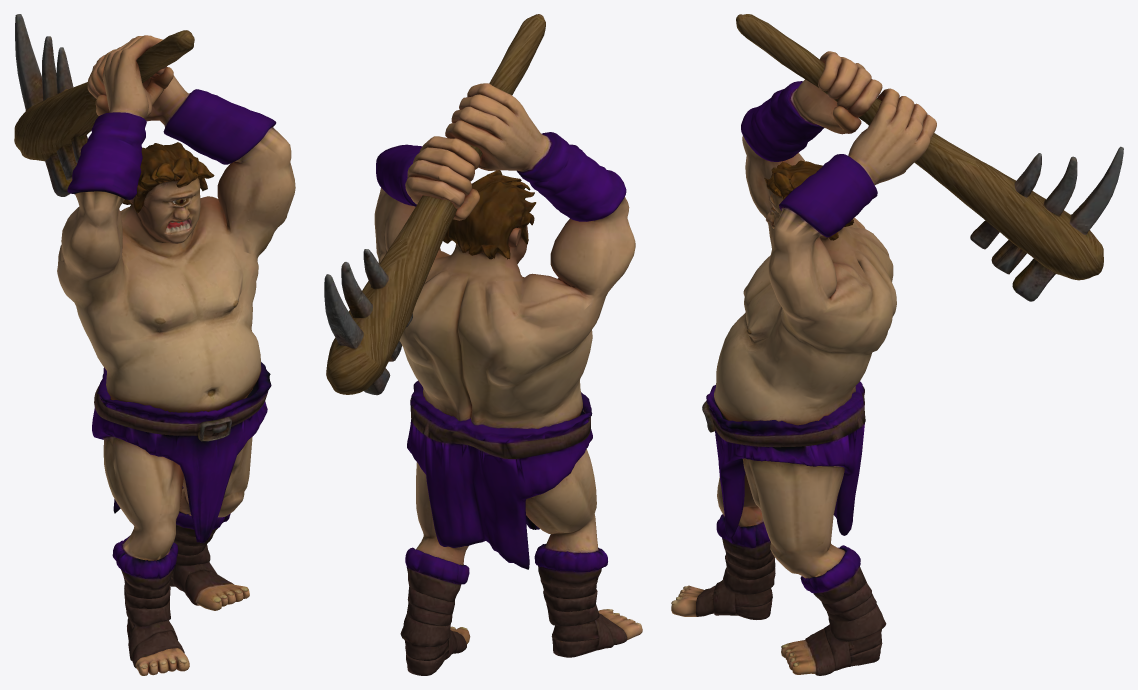
The model's file is MZ4250 - Cyclops.glb.
3 views of the same model, side by side, from view 1: azimuth 30°, elevation 25°; view 2: azimuth 150°, elevation 25°; view 3: azimuth 270°, elevation 25° (orthographic). The views are drawn at different scales.
Visible parts, largest first — view 1: Cyclops Updated.001; view 2: Cyclops Updated.001; view 3: Cyclops Updated.001.
Boxes of the visible parts, box(x1,y1,x2,y2) form: Cyclops Updated.001: box(14, 14, 295, 675); Cyclops Updated.001: box(324, 14, 642, 675); Cyclops Updated.001: box(671, 14, 1123, 675).
Bounding box in the file's own units: 76.26 × 188 × 124.
1 material, 1 textured.
